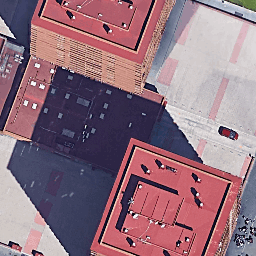car: (219, 125, 238, 140)
